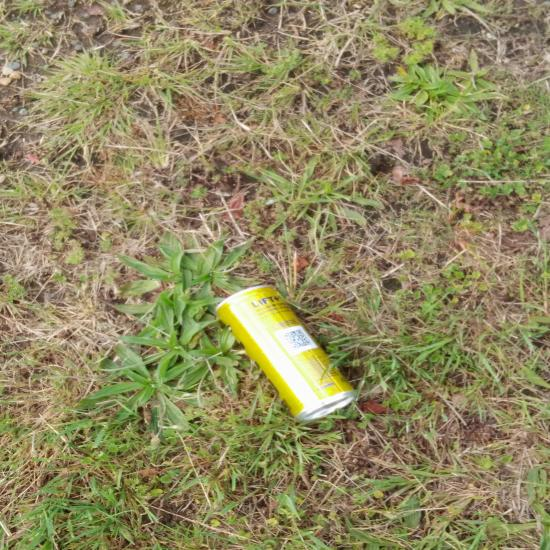Cigarette: (140, 238, 148, 242), (109, 91, 115, 96), (1, 185, 8, 189), (230, 143, 236, 147), (248, 257, 254, 259), (211, 261, 215, 263)
Other plastic bottle: (25, 37, 43, 45), (147, 254, 163, 262)
Pop tab: (47, 6, 52, 11), (131, 126, 135, 131), (107, 130, 113, 133), (191, 252, 195, 255), (212, 118, 215, 121)
Unlabeled litter: (115, 63, 120, 70)
